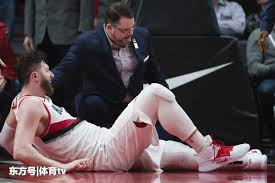fall: (1, 43, 270, 178)
